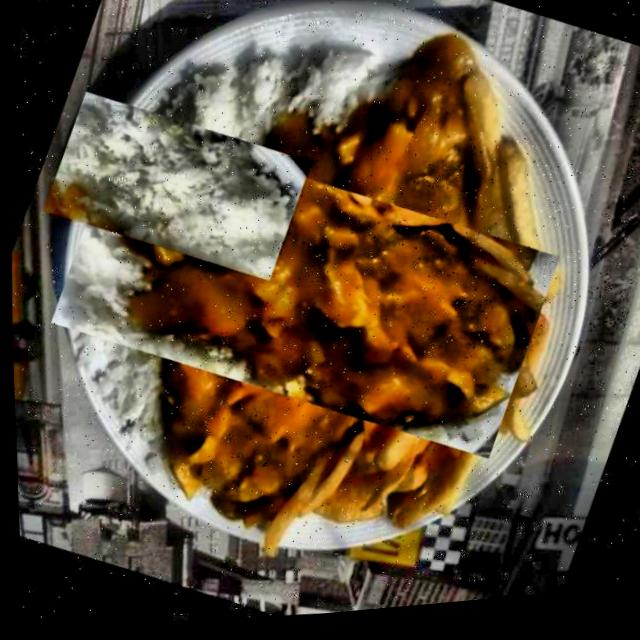Food: (71, 55, 532, 535), (51, 60, 300, 319)
